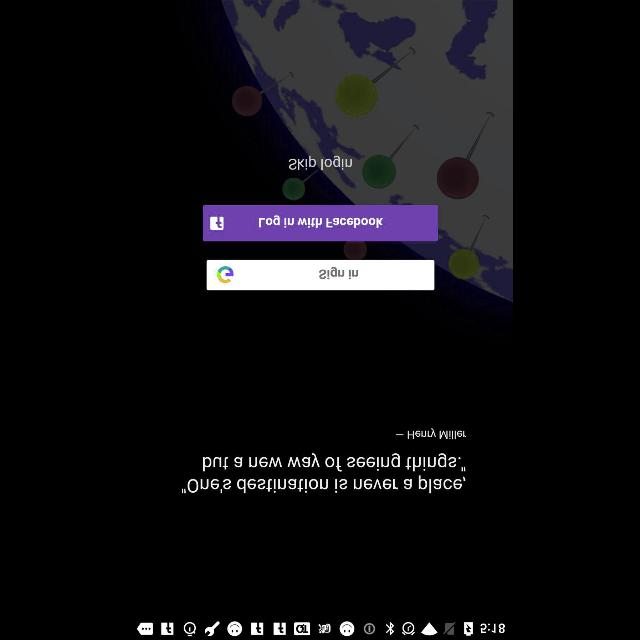backgroundimage: (128, 0, 512, 620)
text: (180, 452, 466, 494), (288, 156, 352, 170), (394, 428, 466, 440)
textbutton: (202, 205, 438, 241), (206, 260, 434, 290)
uppertaskbar: (128, 621, 512, 639)
